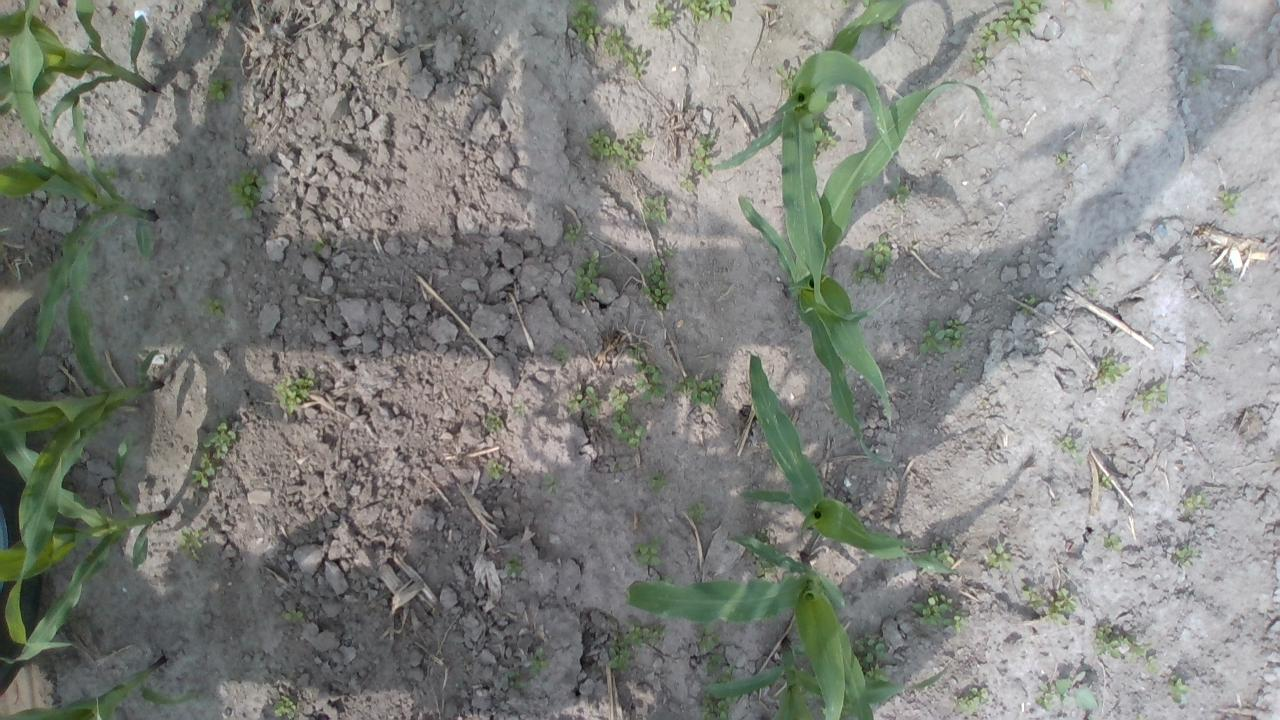Maize: (738, 80, 1001, 464), (0, 236, 158, 654), (740, 354, 956, 577), (626, 531, 874, 720), (0, 405, 168, 666), (0, 98, 156, 353), (716, 0, 912, 174), (0, 0, 155, 165), (703, 641, 942, 720), (0, 657, 202, 720)
Weeds: (977, 0, 1046, 46), (586, 127, 650, 168), (608, 387, 648, 449), (604, 24, 648, 80), (638, 245, 674, 312), (225, 166, 267, 222), (1022, 588, 1080, 626), (1090, 622, 1148, 658), (916, 593, 970, 631), (1054, 670, 1098, 712), (916, 318, 966, 354), (621, 616, 672, 650), (566, 0, 600, 51), (672, 373, 722, 407), (575, 248, 608, 299), (272, 375, 314, 415), (852, 244, 892, 286), (632, 366, 669, 404), (678, 0, 734, 25), (202, 420, 235, 460), (1092, 357, 1132, 390), (852, 631, 888, 664), (566, 386, 602, 417), (691, 133, 715, 177), (702, 692, 739, 720), (632, 535, 664, 567), (190, 453, 218, 489), (1136, 383, 1170, 412), (176, 526, 204, 560), (646, 0, 674, 33), (1208, 270, 1233, 305), (984, 544, 1014, 572), (957, 686, 989, 712), (696, 622, 721, 654), (640, 194, 668, 222), (1166, 674, 1192, 704), (889, 175, 912, 207), (607, 646, 635, 672), (1058, 437, 1084, 465), (207, 79, 236, 104), (814, 126, 838, 156), (1218, 189, 1244, 216), (207, 0, 232, 28), (928, 542, 954, 568), (1189, 18, 1217, 42), (774, 66, 796, 96), (526, 648, 550, 674), (272, 695, 296, 720), (1174, 546, 1200, 568), (1034, 683, 1053, 712), (646, 470, 670, 492), (757, 557, 778, 582), (204, 294, 224, 320), (486, 460, 508, 482), (799, 687, 822, 708), (686, 501, 706, 524), (865, 663, 890, 681), (627, 343, 642, 372), (967, 48, 985, 72), (102, 164, 122, 185), (485, 413, 505, 434), (564, 222, 586, 241), (1191, 342, 1211, 362), (1188, 73, 1210, 91), (506, 672, 530, 688), (1018, 296, 1036, 317), (715, 666, 738, 682), (1183, 494, 1204, 511), (504, 559, 522, 578), (703, 655, 722, 673), (1222, 46, 1240, 65), (1102, 534, 1120, 552), (755, 526, 771, 546), (10, 155, 34, 168), (542, 474, 560, 491), (284, 608, 304, 623), (1088, 0, 1116, 10), (678, 178, 696, 193), (552, 344, 568, 360), (883, 16, 898, 33), (1144, 656, 1158, 674), (309, 238, 324, 254), (1054, 153, 1070, 168), (1099, 476, 1112, 490), (660, 576, 674, 586), (955, 367, 969, 376), (838, 0, 850, 8), (1086, 286, 1097, 294), (861, 0, 870, 8), (1134, 714, 1144, 720)
